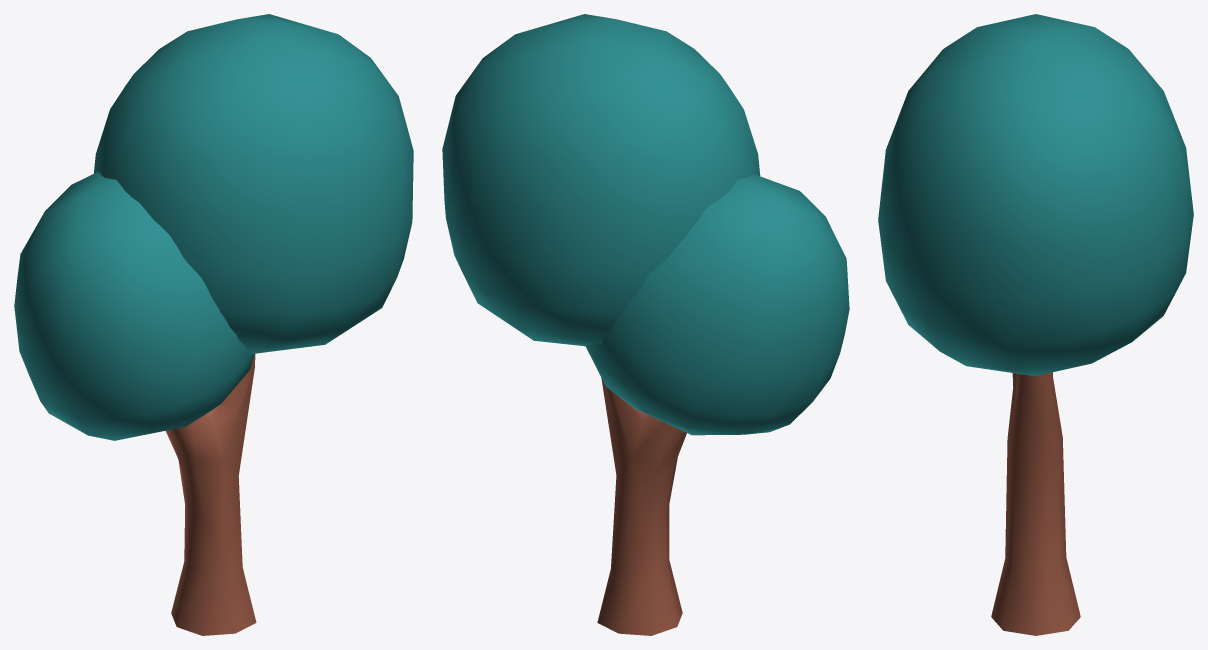
File: detail_treeB.gltf.glb
3 views of the same model, side by side, from view 1: azimuth 30°, elevation 25°; view 2: azimuth 150°, elevation 25°; view 3: azimuth 270°, elevation 25° (orthographic). The views are drawn at different scales.
Parts seen in each view (by area): view 1: detail_treeB; view 2: detail_treeB; view 3: detail_treeB.
Part boxes in pixels (<box>): detail_treeB: <box>14,14,413,635</box>; detail_treeB: <box>442,14,849,635</box>; detail_treeB: <box>878,14,1193,635</box>.
Size of the model in its own units: 15948 by 23816 by 11266.
